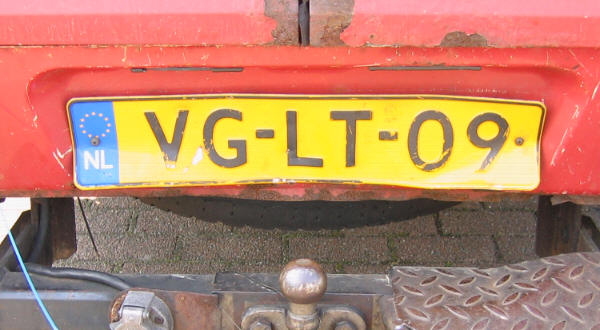license_plate: (66, 96, 547, 194)
